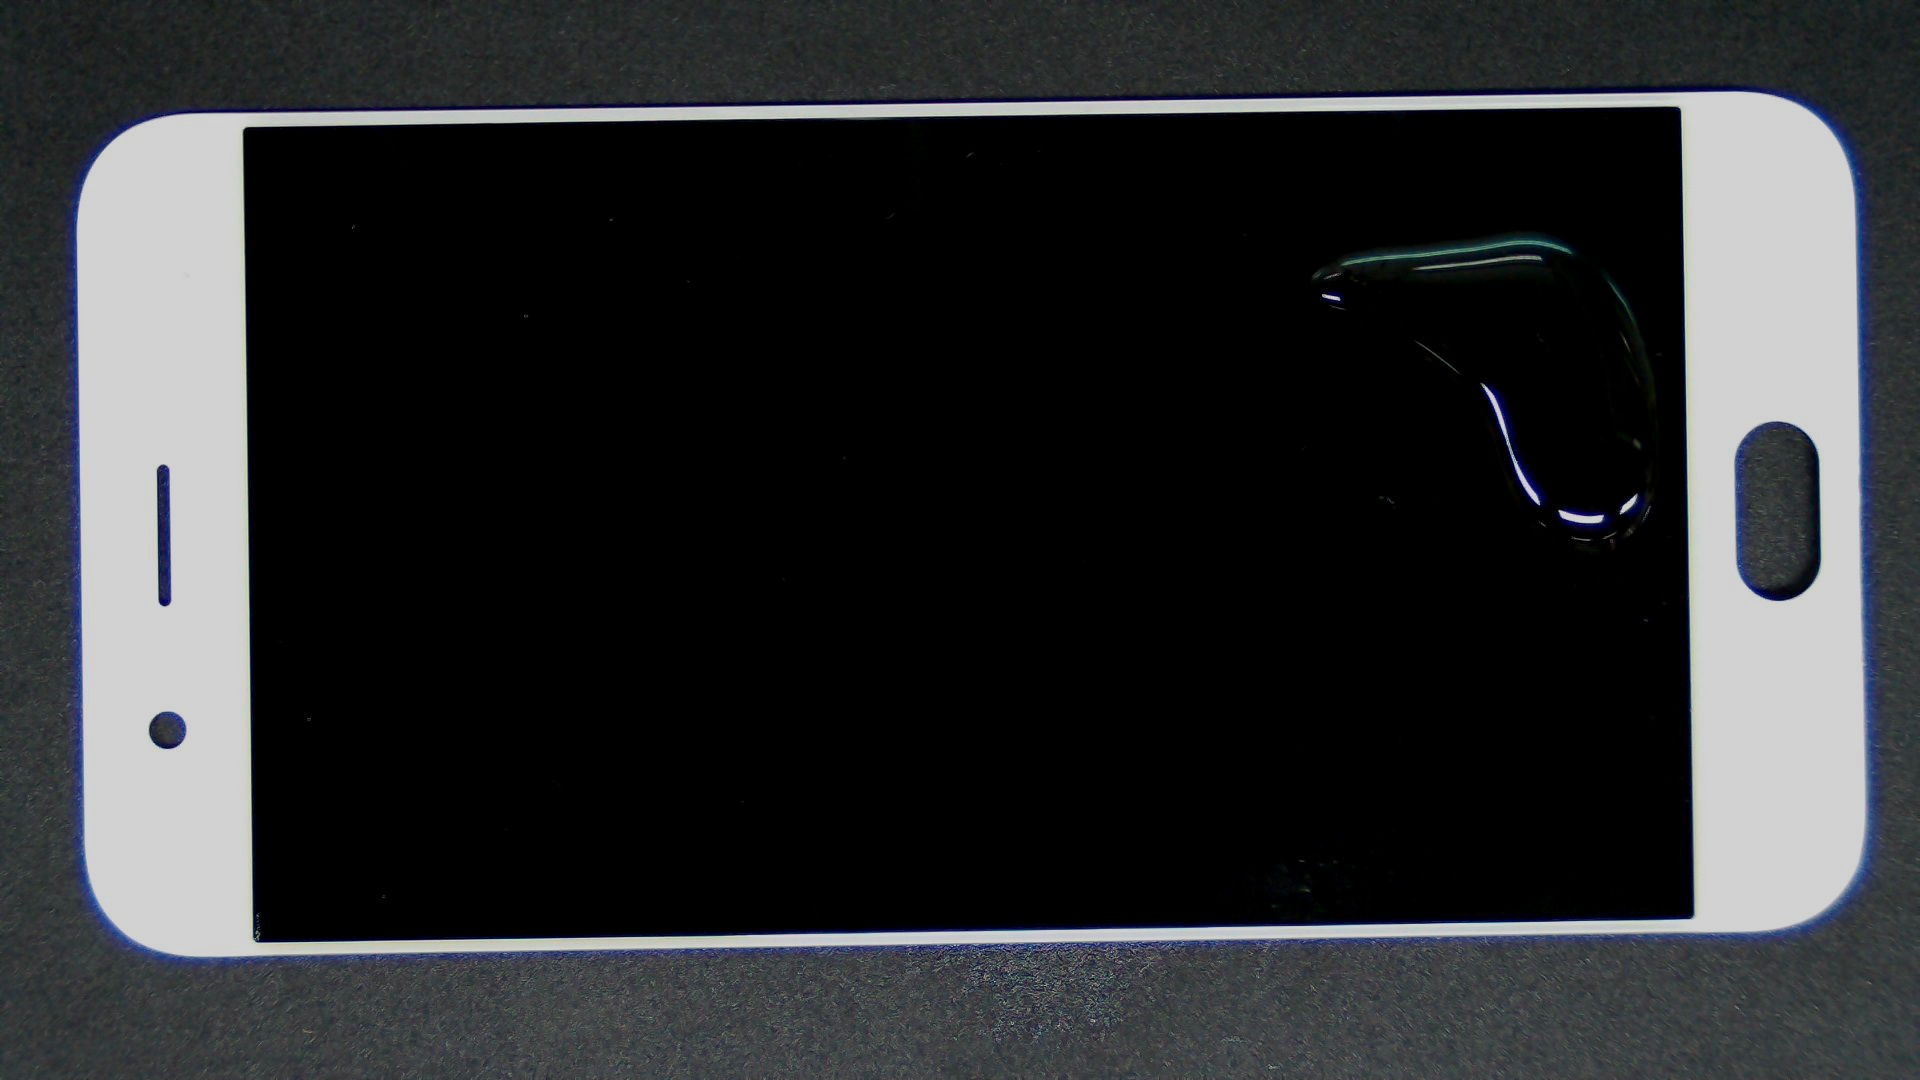oil: (756, 115, 1920, 347)
